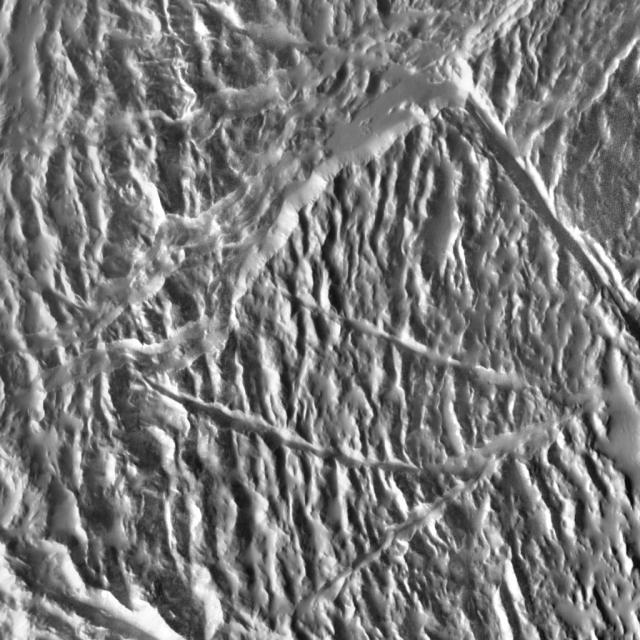crater: (130, 425, 180, 472), (178, 250, 192, 262)
